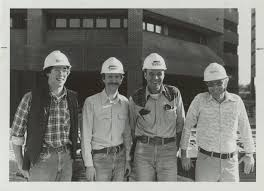Person_wearing_helmet: (37, 48, 75, 75), (97, 53, 125, 79), (140, 51, 170, 74), (204, 61, 227, 87)
